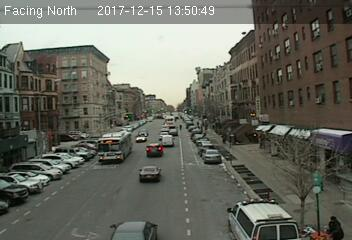bus: (97, 132, 132, 161)
car: (107, 221, 157, 240), (139, 165, 162, 183), (201, 149, 223, 163), (144, 143, 164, 157), (160, 135, 174, 147), (135, 134, 147, 142)
police: (226, 196, 302, 239)
